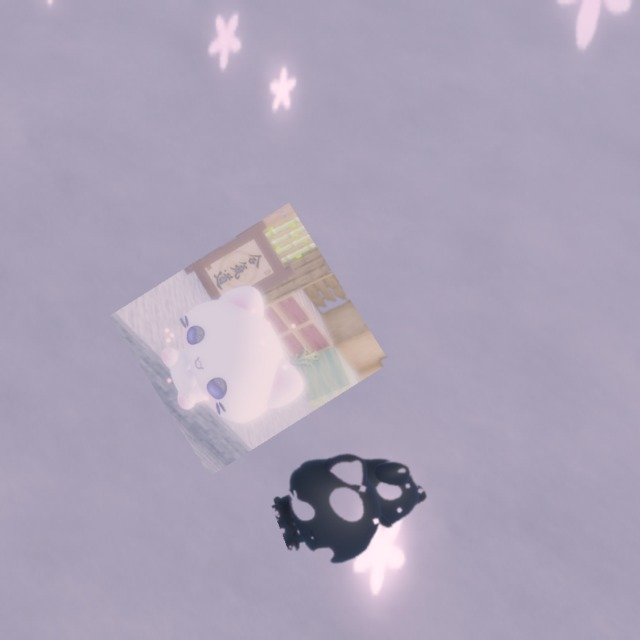urso_branco: (108, 202, 391, 477)
urso_preto: (259, 417, 452, 590)
